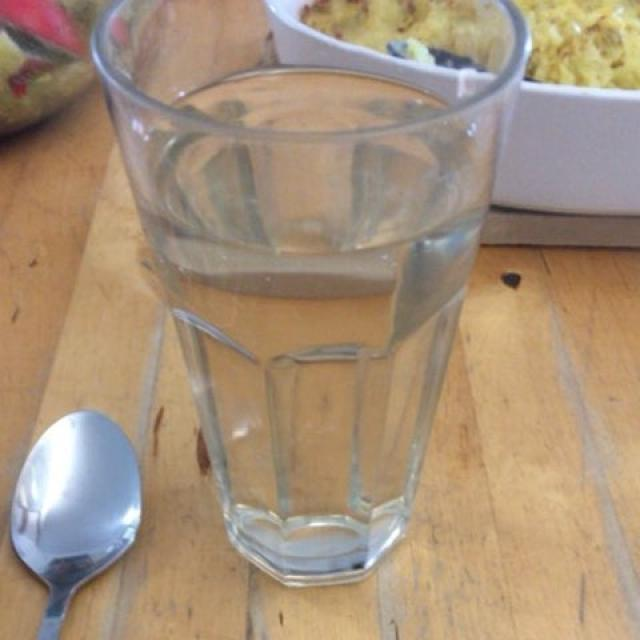water: (156, 71, 478, 569)
